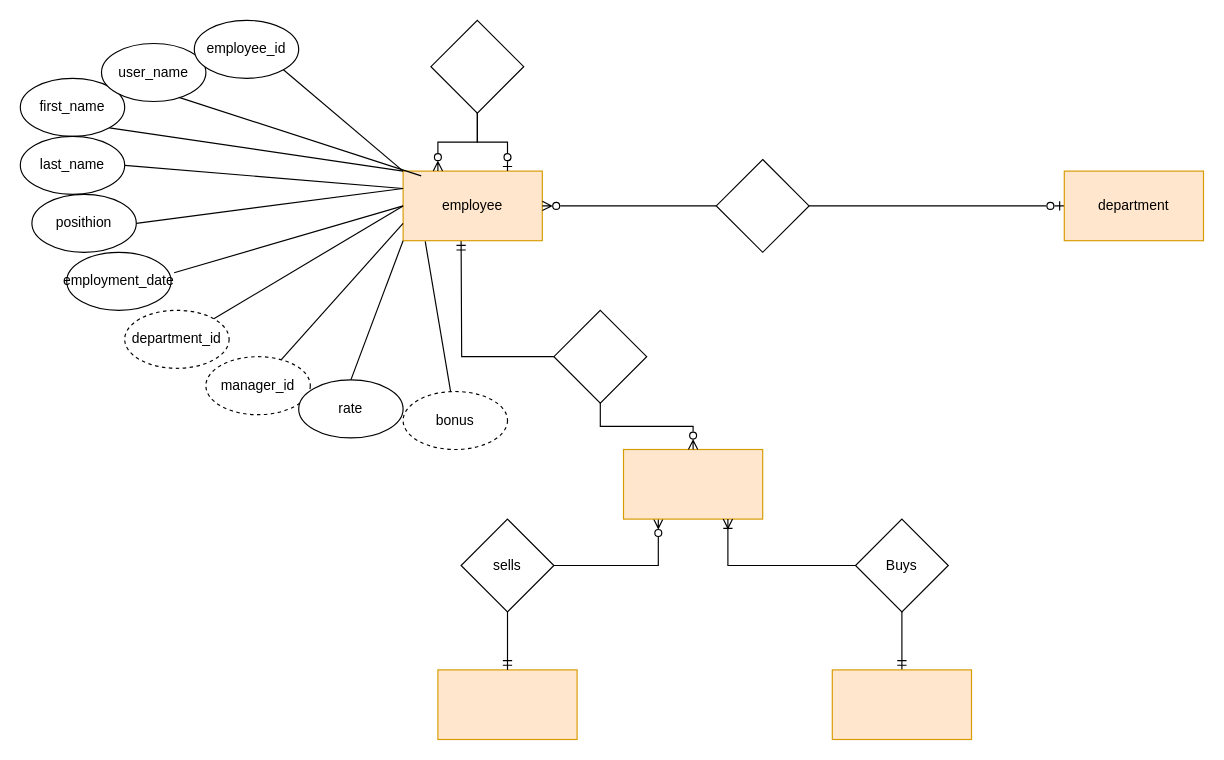
The diagram is 1224 pixels wide and 760 high, and some of its shapes have lost their labels. The shapes that lost their labels are listed below. From the top down, each one's centre as x and y in pixels, then its label:
point (477, 66): manages
point (762, 205): work_for
point (600, 356): Placec
point (692, 483): orders
point (507, 704): product
point (901, 704): customer
